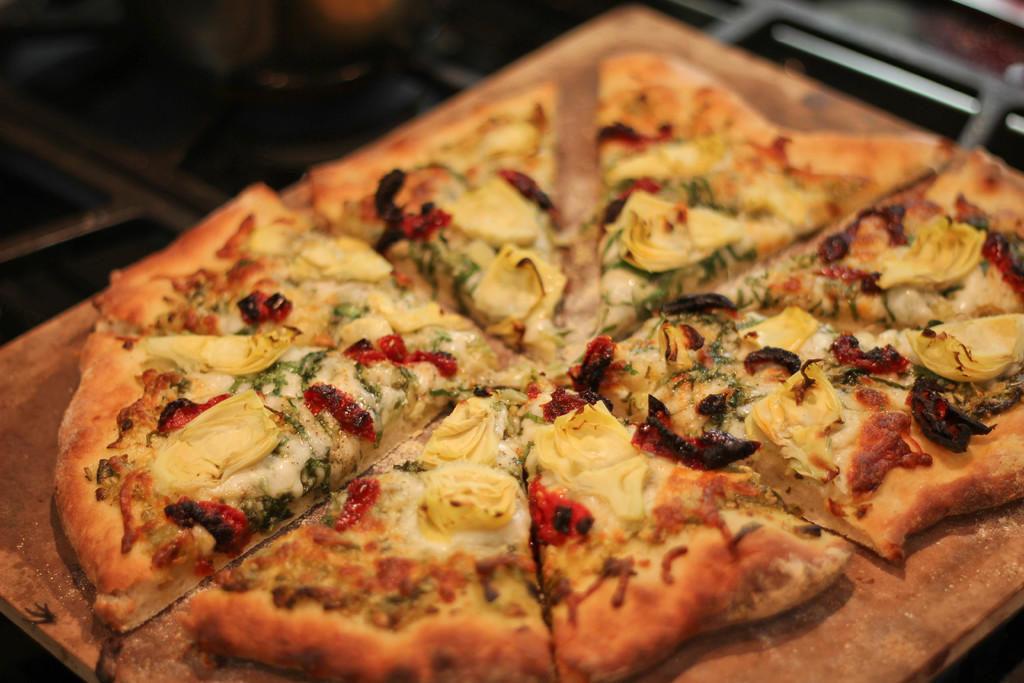Pizza: (176, 363, 856, 682), (44, 176, 496, 633), (563, 142, 1023, 561), (602, 41, 956, 325), (304, 82, 555, 360)
